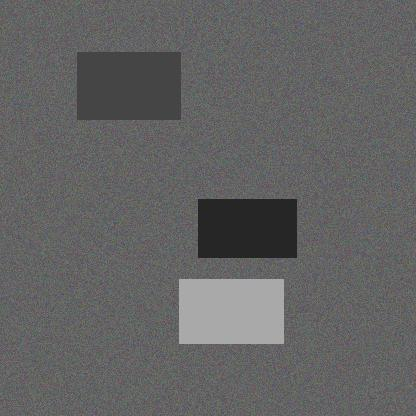empty: (232, 260, 306, 330), (243, 61, 321, 108), (90, 192, 134, 272)
occupied: (155, 75, 232, 134)
